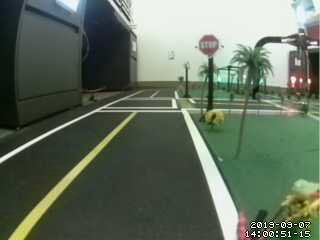Stop_Sign: (195, 32, 226, 60)
